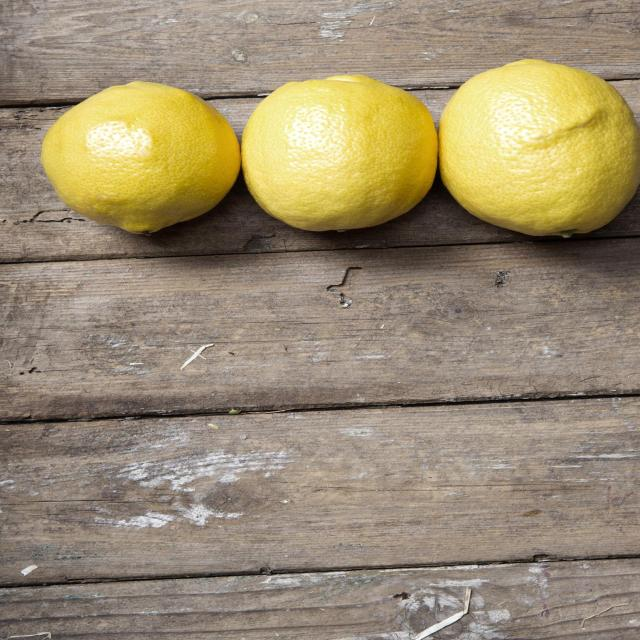lemon: (432, 55, 640, 239), (233, 68, 442, 242), (36, 75, 245, 241)
